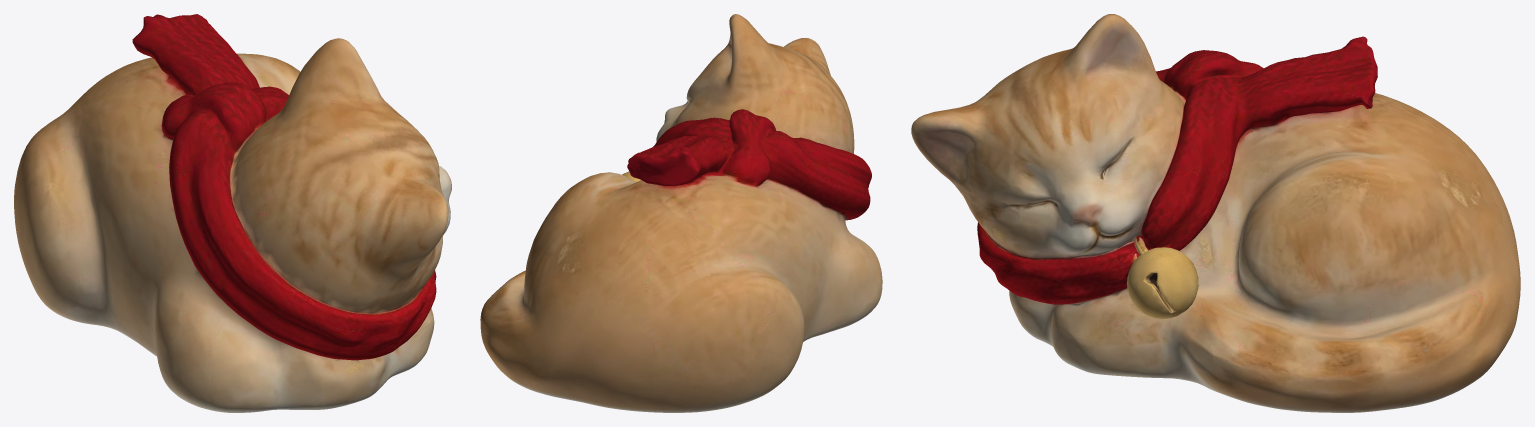
File: cat.glb
3 views of the same model, side by side, from view 1: azimuth 30°, elevation 25°; view 2: azimuth 150°, elevation 25°; view 3: azimuth 270°, elevation 25° (orthographic). The views are drawn at different scales.
Size of the model in its own units: 1.34 by 1.18 by 2.
Materials: 1 (1 with a texture image).
